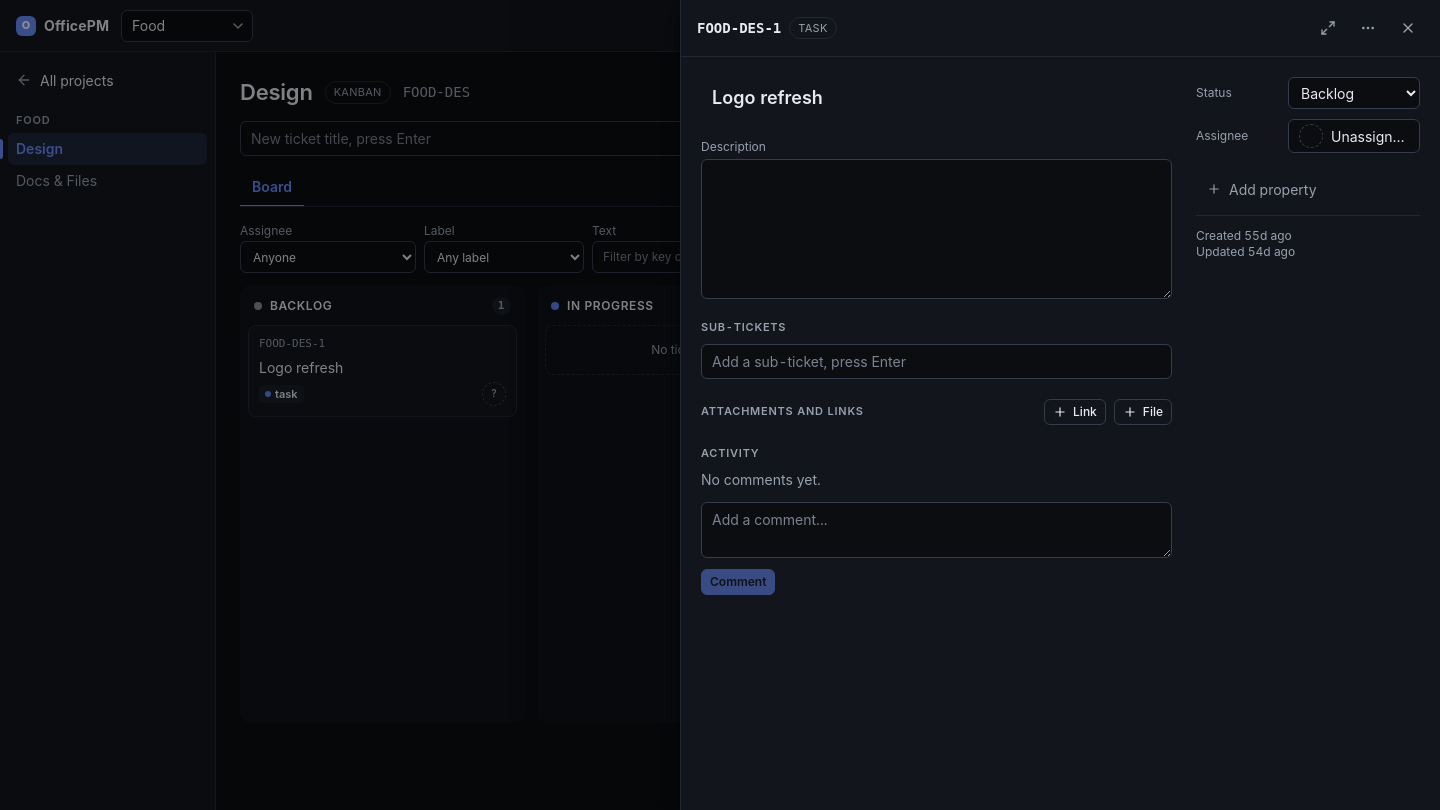
ticket drawer › saves a new title when you leave the field, and refuses an empty one
Replace the text in the field named "Title" with "Logo refresh v2": (936, 98) [701,77,1172,119]
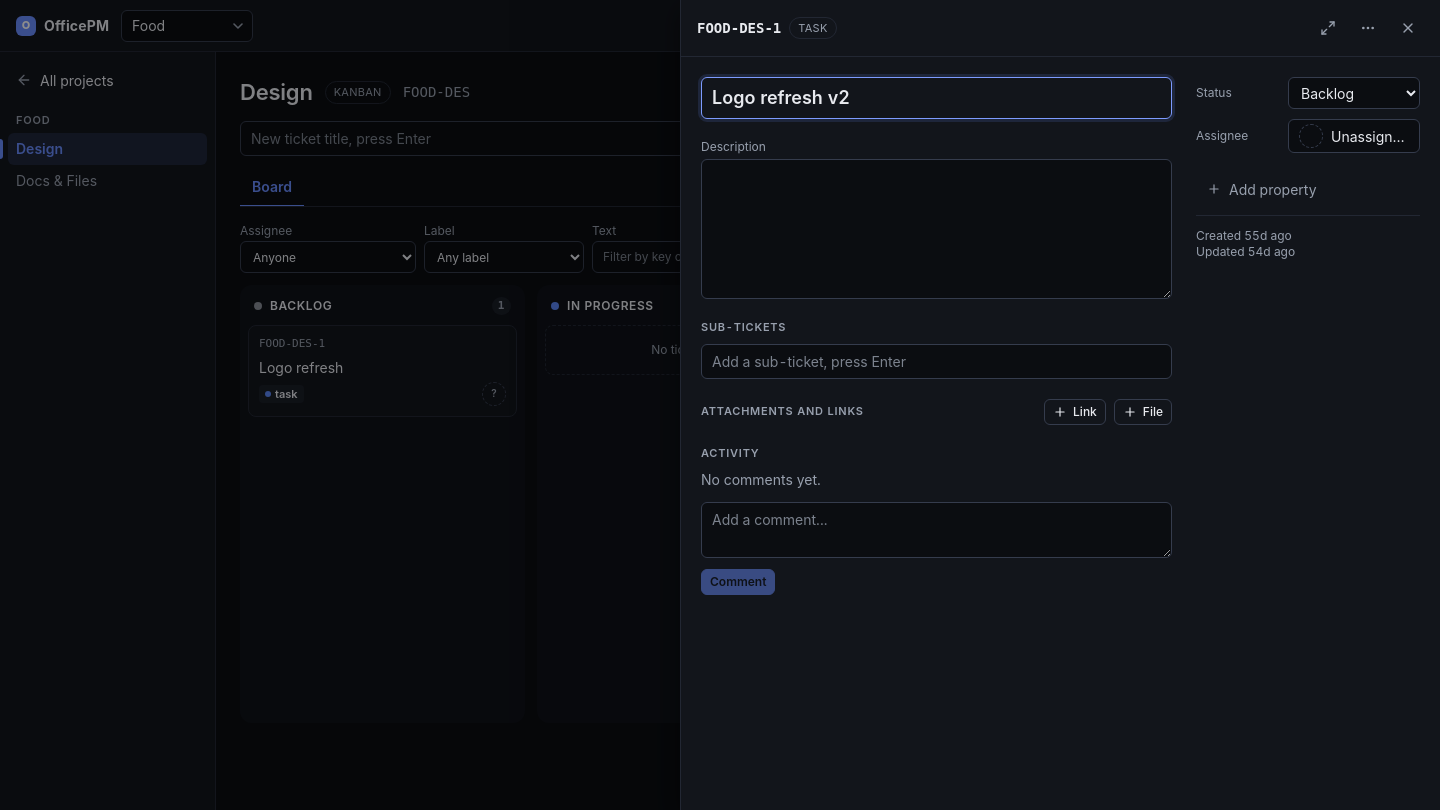
Press Tab
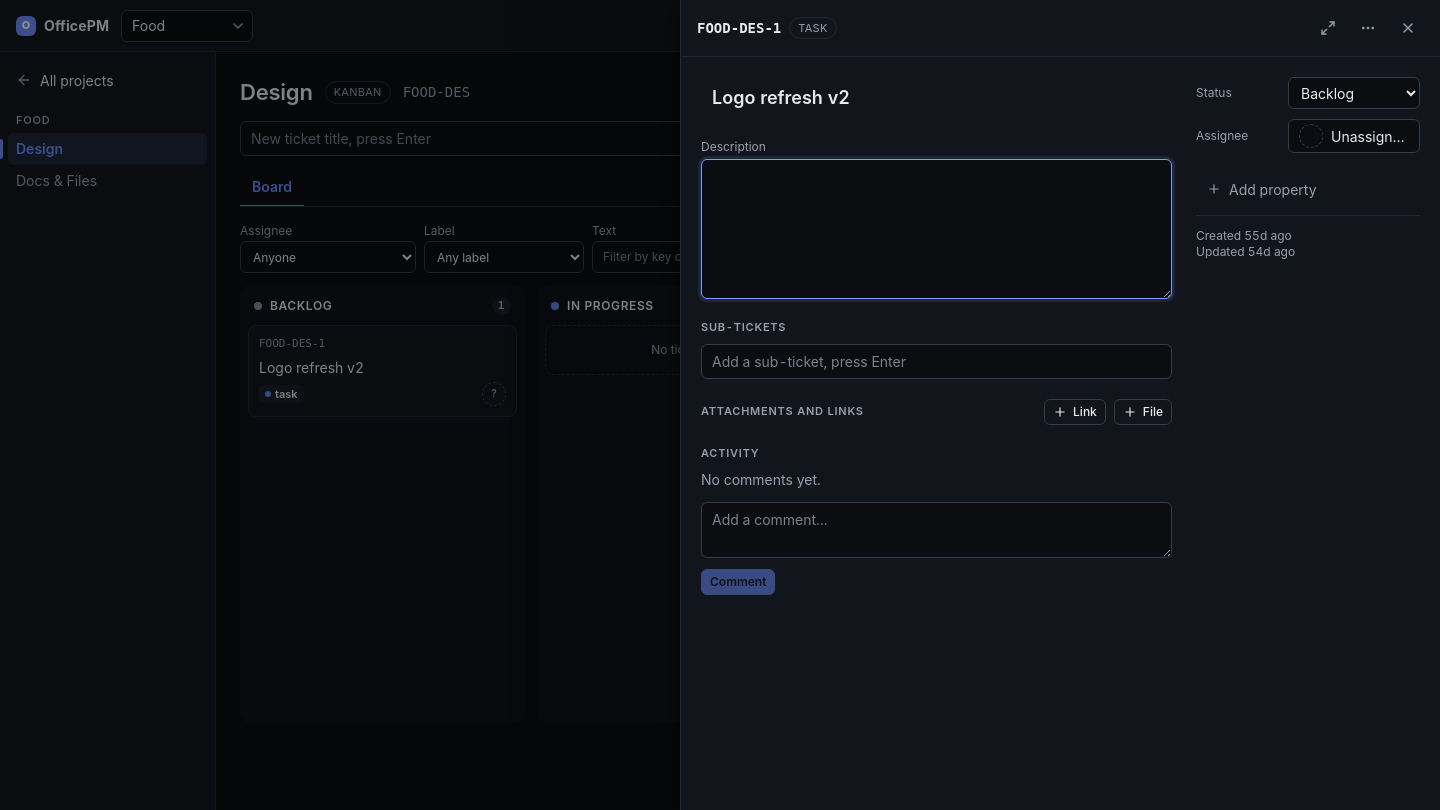
# The saved field is rebuilt, so look it up again.
Clear the field showing "Logo refresh v2": (936, 98) [701,77,1172,119]
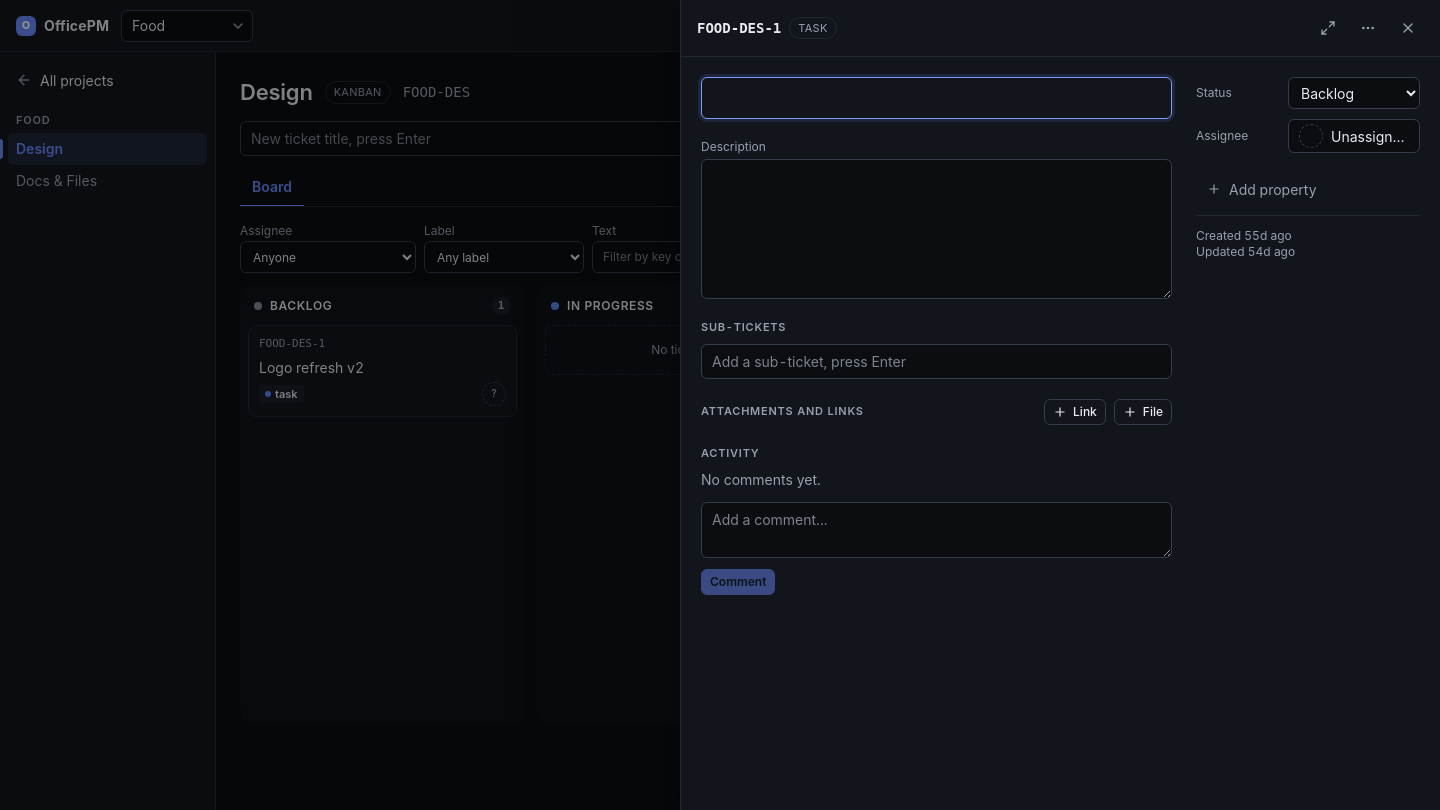
Press Tab
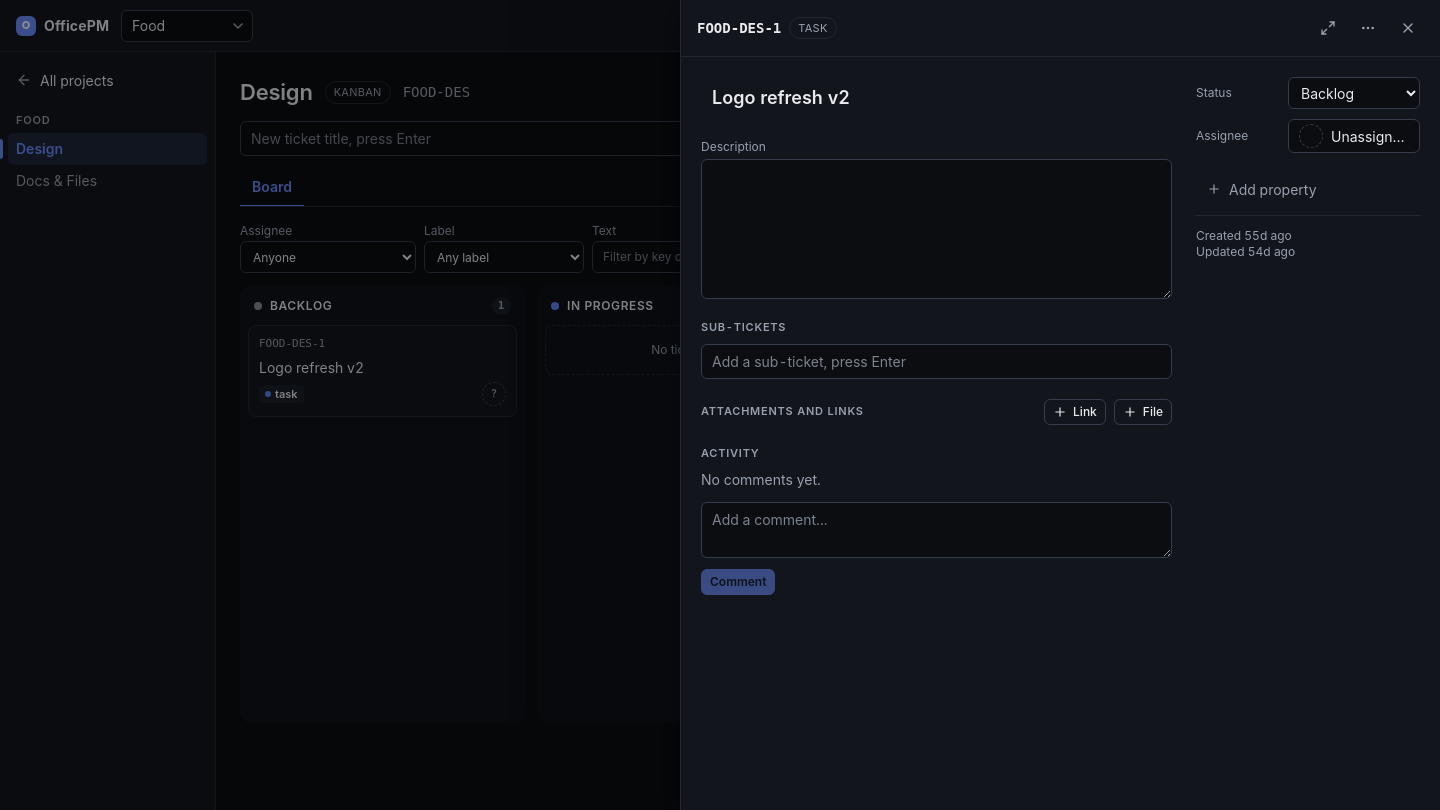
expect the field named "Title" holds "Logo refresh v2": met, box [701,77,1172,119]
